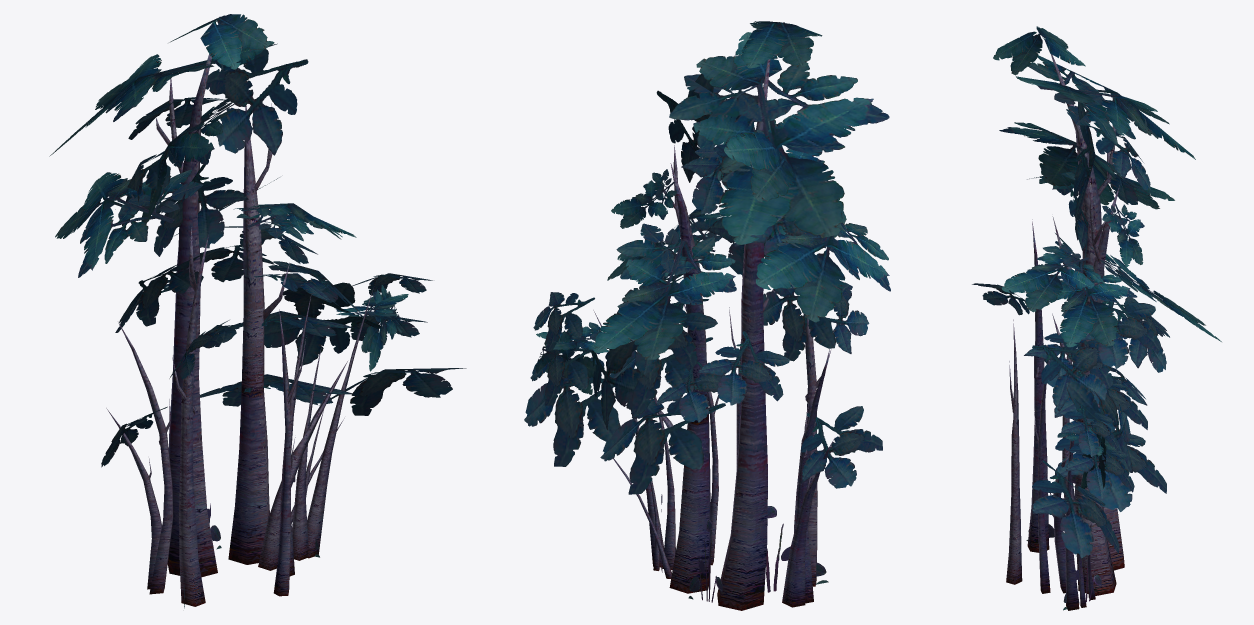
File: yw_huanghunzhihu_shu01.FBX
The picture shows the model from 3 angles, left to right: view 1: azimuth 30°, elevation 25°; view 2: azimuth 150°, elevation 25°; view 3: azimuth 270°, elevation 25°; orthographic projection. The views are drawn at different scales.
Visible parts, largest first — view 1: yw_huanghunzhihu_shu01; view 2: yw_huanghunzhihu_shu01; view 3: yw_huanghunzhihu_shu01.
Boxes of the visible parts, x1,y1,x2,y2 form: yw_huanghunzhihu_shu01: (49,14,466,608); yw_huanghunzhihu_shu01: (524,21,890,610); yw_huanghunzhihu_shu01: (972,26,1221,610).
Bounding box in the file's own units: 1035 × 1303 × 625.
